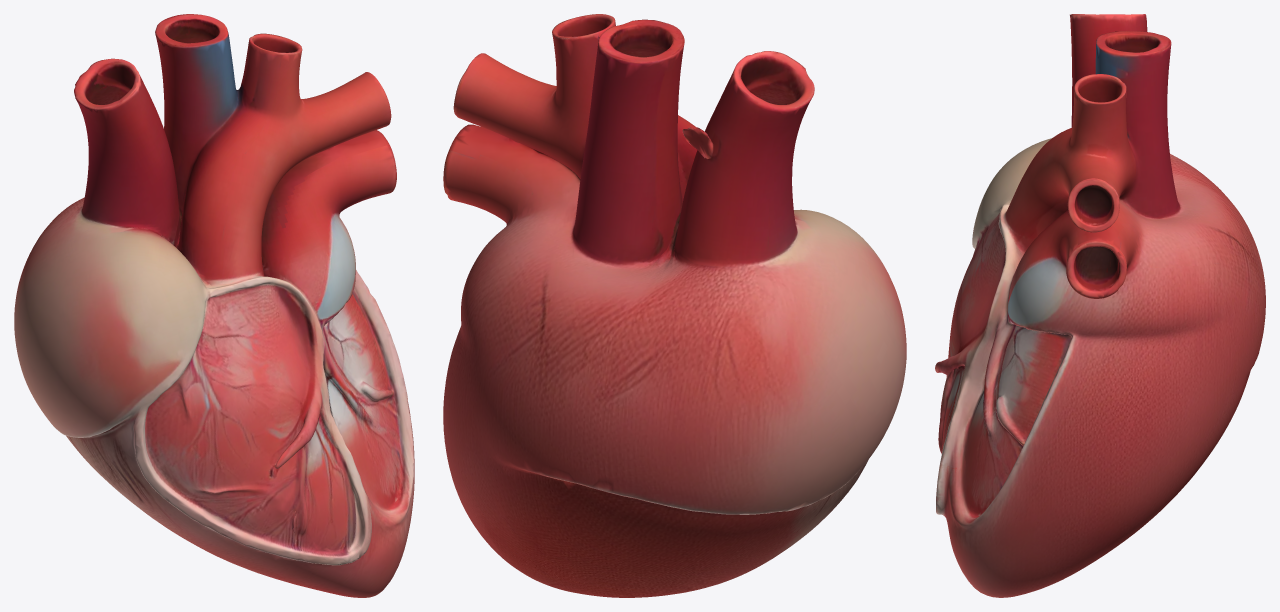
The model's file is vet_v2_organ_horse_heart.glb.
3 views of the same model, side by side, from view 1: azimuth 30°, elevation 25°; view 2: azimuth 150°, elevation 25°; view 3: azimuth 270°, elevation 25° (orthographic). The views are drawn at different scales.
Visible parts, largest first — view 1: model; view 2: model; view 3: model.
Part boxes in pixels (<box>): model: <box>14,14,414,597</box>; model: <box>443,14,906,597</box>; model: <box>935,14,1265,597</box>.
Size of the model in its own units: 1.3 by 1.9 by 1.13.
1 material, 1 textured.
